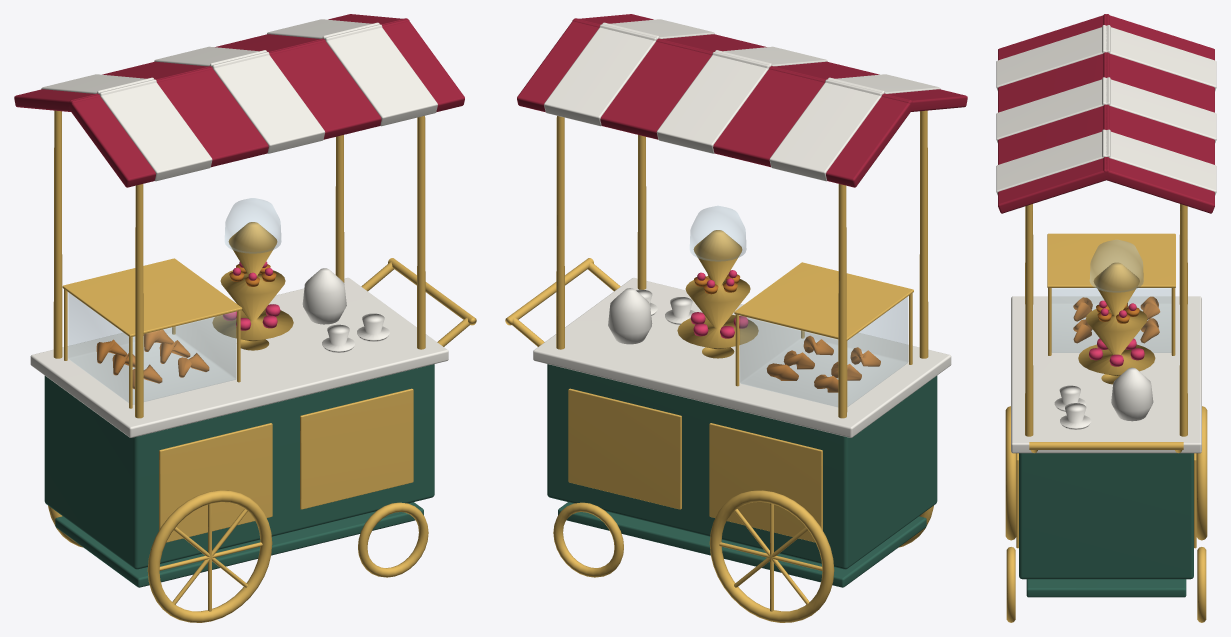
The model's file is webtoon-parisian-patisserie-display-cart-v16.glb.
The picture shows the model from 3 angles, left to right: view 1: azimuth 30°, elevation 25°; view 2: azimuth 150°, elevation 25°; view 3: azimuth 270°, elevation 25°; orthographic projection. The views are drawn at different scales.
Parts seen in each view (by area): view 1: PatisserieMarbleAndPorcelain.001, PatisserieBrassHardware.001, PatisserieEnamelBody.001, PatisserieBistroCanopy.001, PatisserieCrystalVitrine.001, PatisserieCroissantsAndTarts.001, PatisserieBerryMacarons.001; view 2: PatisserieBrassHardware.001, PatisserieMarbleAndPorcelain.001, PatisserieEnamelBody.001, PatisserieBistroCanopy.001, PatisserieCrystalVitrine.001, PatisserieCroissantsAndTarts.001, PatisserieBerryMacarons.001; view 3: PatisserieMarbleAndPorcelain.001, PatisserieEnamelBody.001, PatisserieBrassHardware.001, PatisserieBistroCanopy.001, PatisserieCrystalVitrine.001, PatisserieCroissantsAndTarts.001, PatisserieBerryMacarons.001.
Part boxes in pixels (left/top/right/bottom): PatisserieMarbleAndPorcelain.001: left=30, top=19, right=448, bottom=437; PatisserieBrassHardware.001: left=48, top=110, right=476, bottom=622; PatisserieEnamelBody.001: left=44, top=364, right=434, bottom=587; PatisserieBistroCanopy.001: left=14, top=14, right=464, bottom=187; PatisserieCrystalVitrine.001: left=68, top=198, right=281, bottom=404; PatisserieCroissantsAndTarts.001: left=96, top=264, right=276, bottom=389; PatisserieBerryMacarons.001: left=223, top=261, right=280, bottom=330; PatisserieBrassHardware.001: left=505, top=110, right=933, bottom=622; PatisserieMarbleAndPorcelain.001: left=533, top=19, right=951, bottom=437; PatisserieEnamelBody.001: left=547, top=364, right=937, bottom=587; PatisserieBistroCanopy.001: left=517, top=14, right=967, bottom=187; PatisserieCrystalVitrine.001: left=690, top=206, right=907, bottom=406; PatisserieCroissantsAndTarts.001: left=694, top=274, right=880, bottom=392; PatisserieBerryMacarons.001: left=690, top=270, right=748, bottom=338; PatisserieMarbleAndPorcelain.001: left=996, top=25, right=1216, bottom=453; PatisserieEnamelBody.001: left=1019, top=453, right=1193, bottom=597; PatisserieBrassHardware.001: left=1005, top=204, right=1207, bottom=622; PatisserieBistroCanopy.001: left=998, top=14, right=1214, bottom=213; PatisserieCrystalVitrine.001: left=1052, top=240, right=1171, bottom=352; PatisserieCroissantsAndTarts.001: left=1073, top=296, right=1160, bottom=343; PatisserieBerryMacarons.001: left=1089, top=300, right=1144, bottom=366.
Bounding box in the file's own units: 1.56 × 2.06 × 0.8551.
